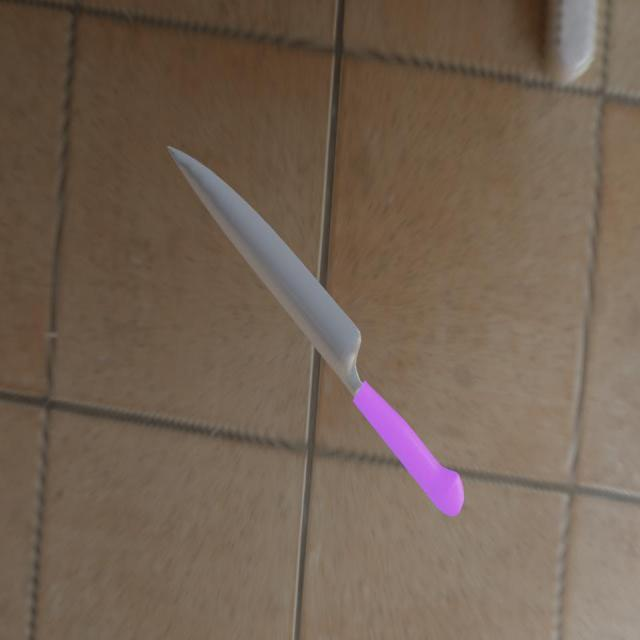knife: (353, 381, 465, 518)
